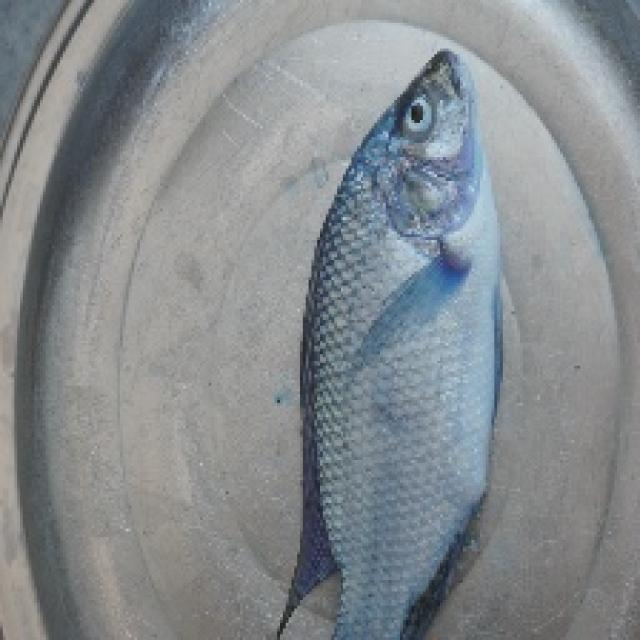Fresh: (288, 46, 556, 530)
